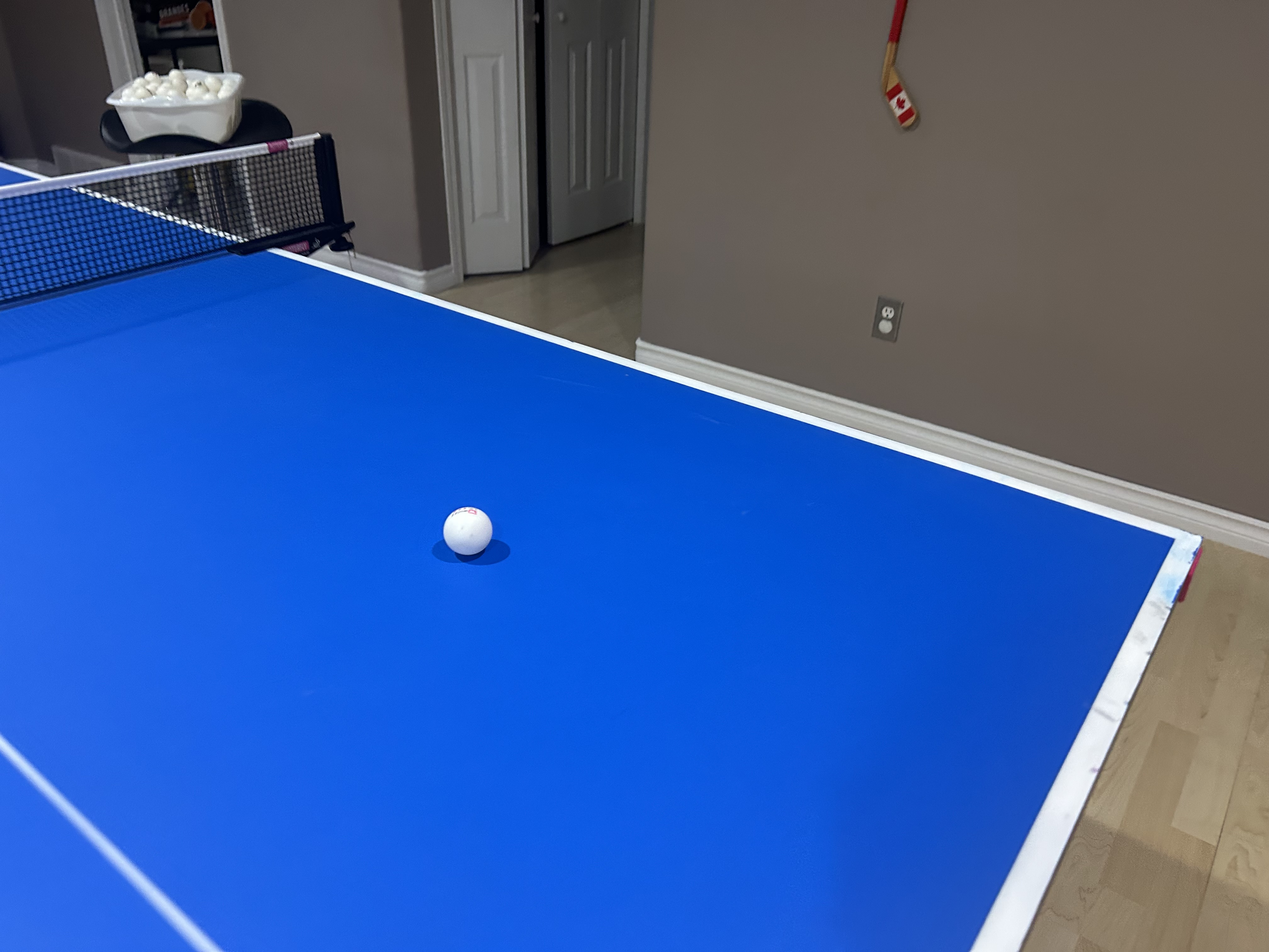Ball: (428, 495, 508, 562)
